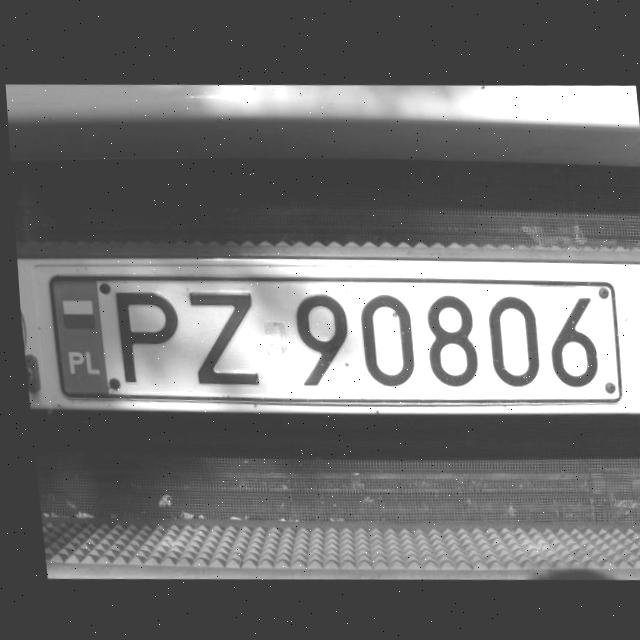license-plates: (50, 276, 623, 405)
